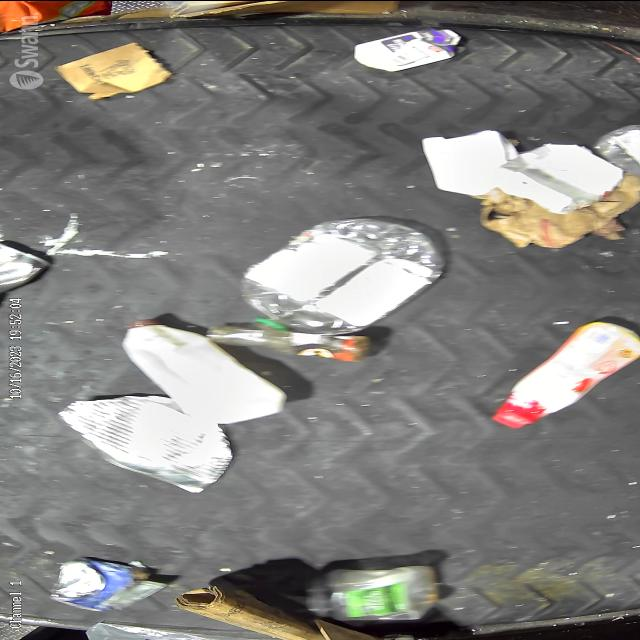can: (64, 394, 226, 494), (51, 557, 166, 611), (0, 238, 52, 296)
milk_jug: (120, 316, 296, 423)
non_white_jug: (487, 321, 640, 427)
plastic_bottle: (234, 218, 440, 334)
